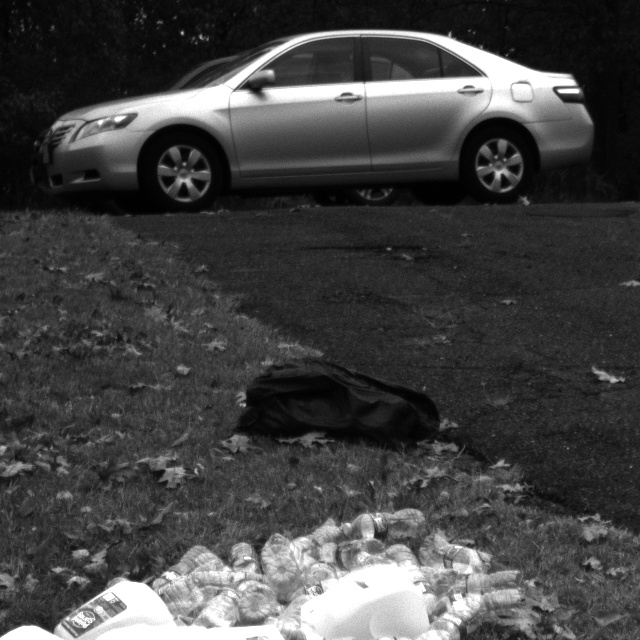bottle: (144, 539, 217, 599), (338, 504, 424, 545), (420, 536, 486, 578), (451, 566, 523, 599), (285, 520, 352, 553), (225, 536, 258, 585)
can: (301, 558, 424, 640), (52, 577, 174, 640)
